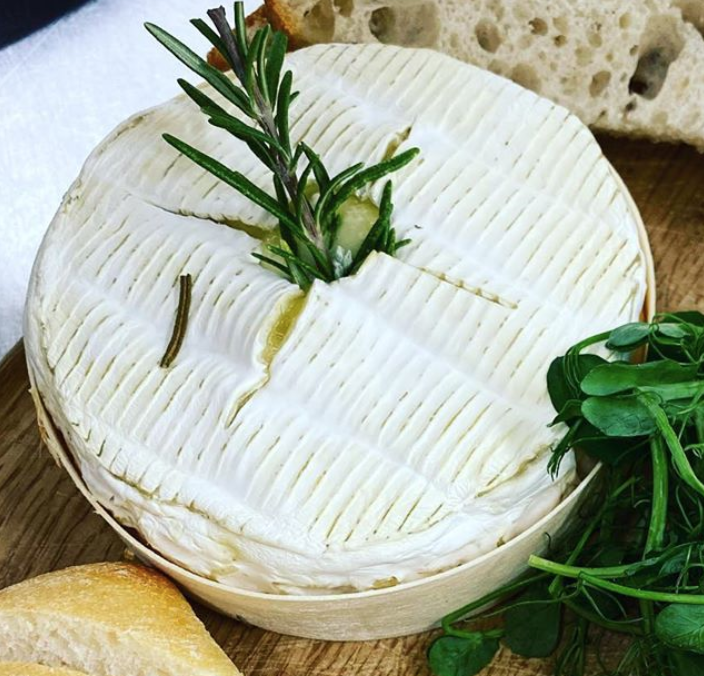camembert: (19, 38, 657, 615)
